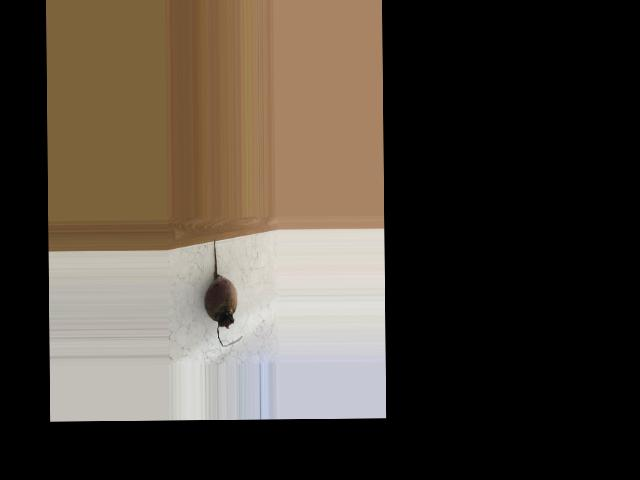beet: (203, 238, 242, 346)
